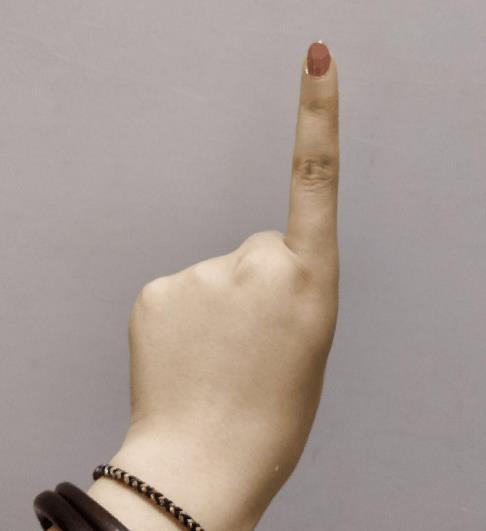up: (111, 28, 350, 453)
